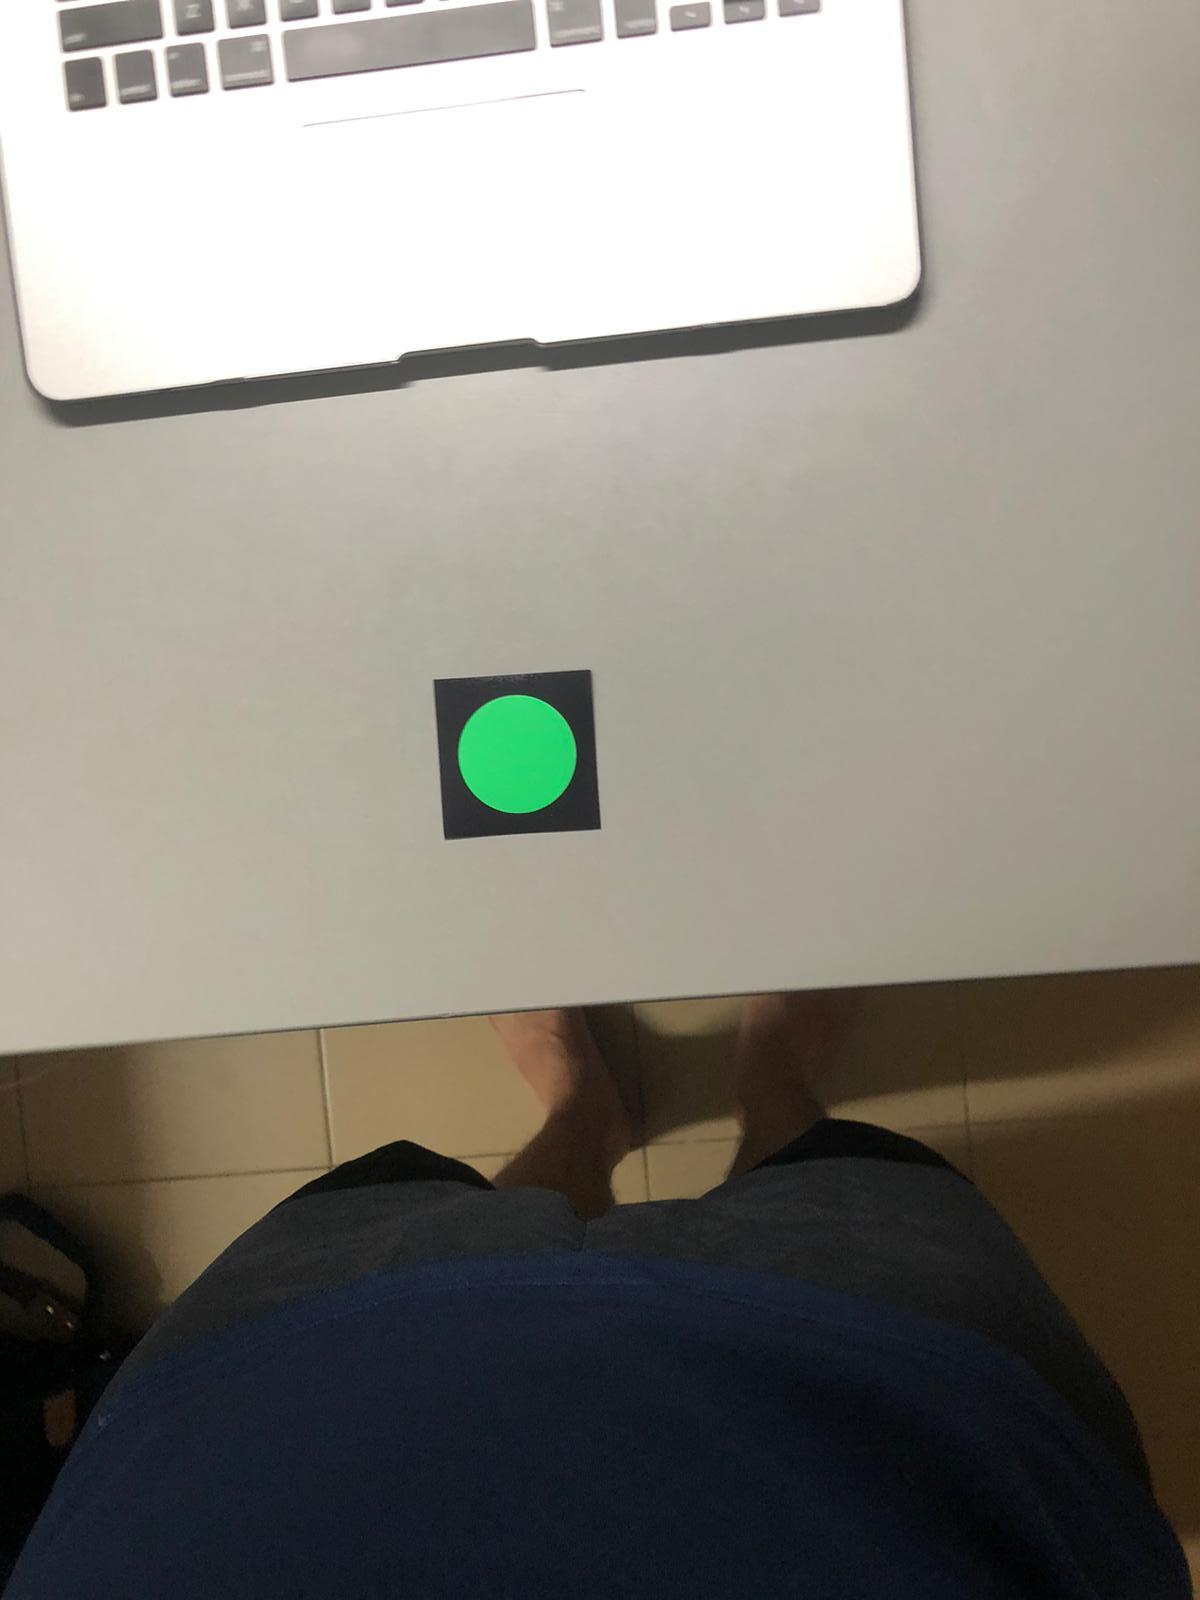Circle: (429, 677, 604, 829)
